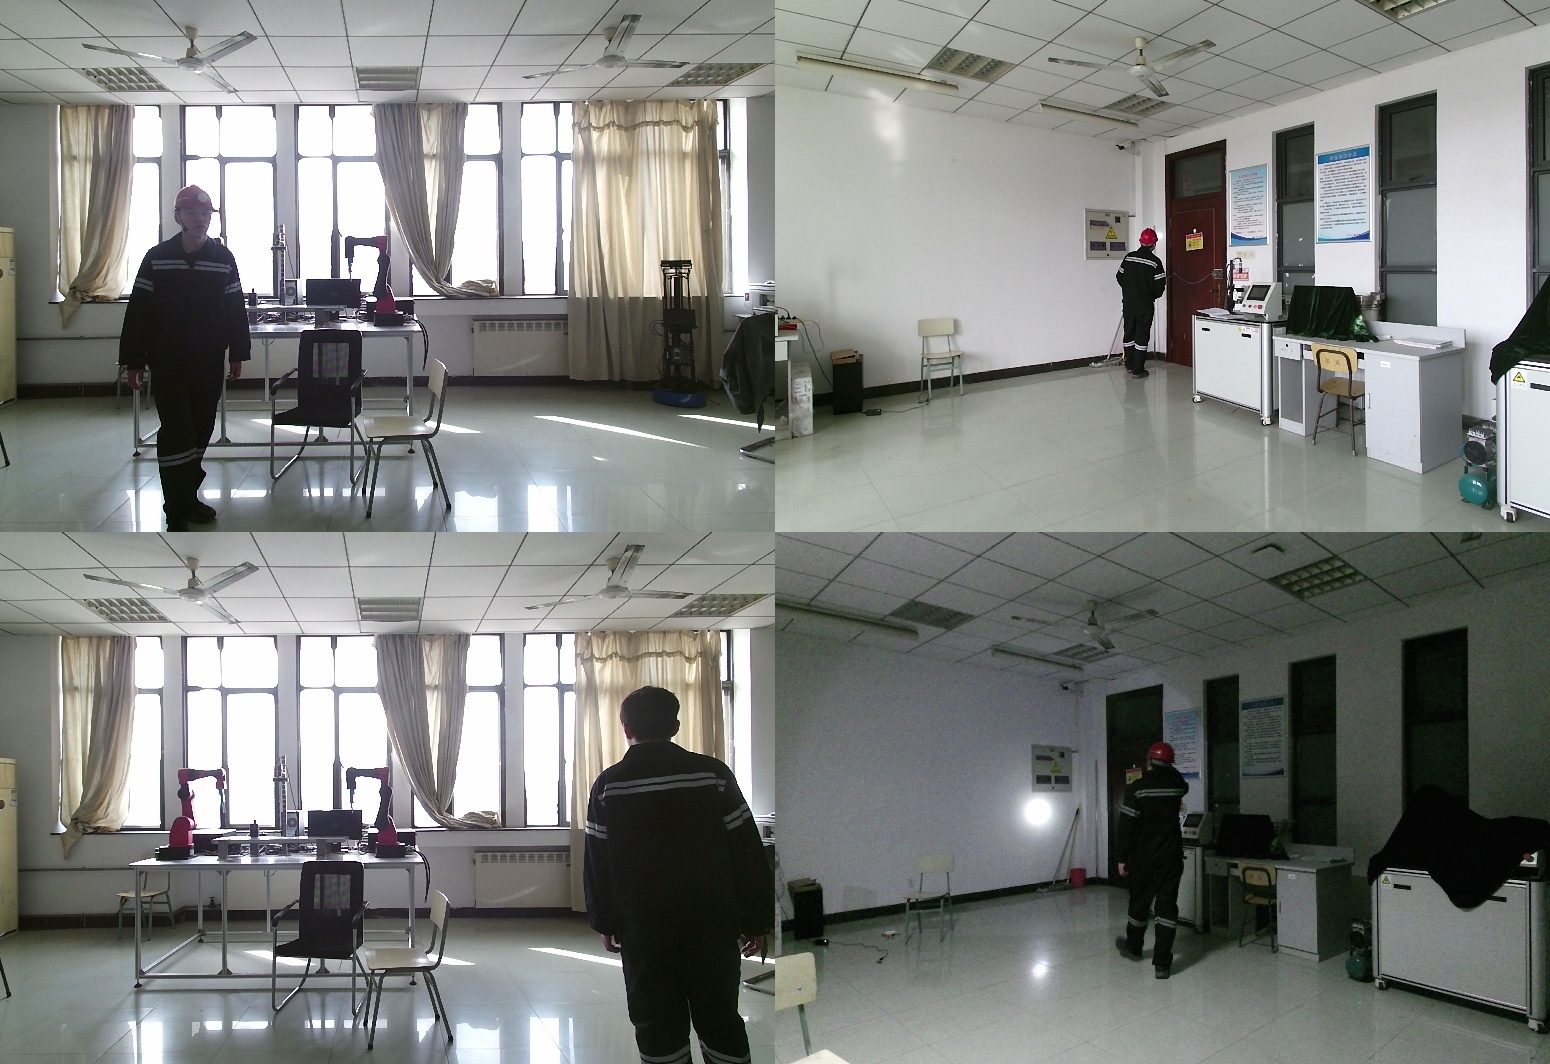person: (582, 686, 769, 1064), (121, 187, 251, 532), (1117, 741, 1200, 977), (1114, 229, 1171, 382)
